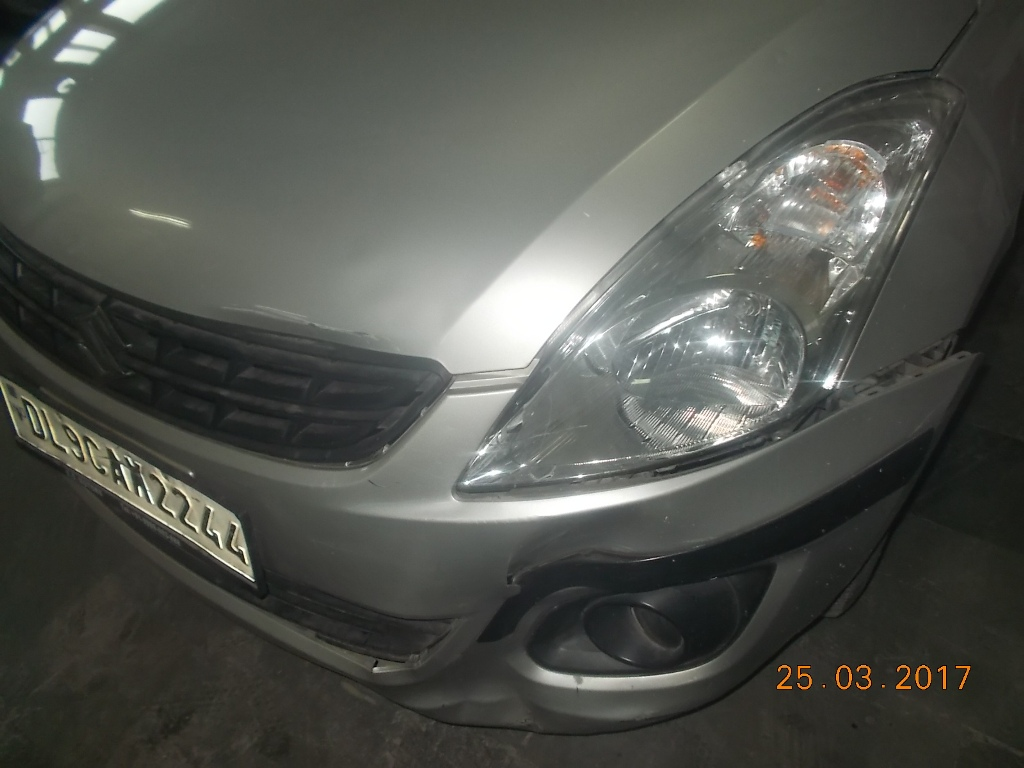Dislocation: (846, 336, 966, 409)
